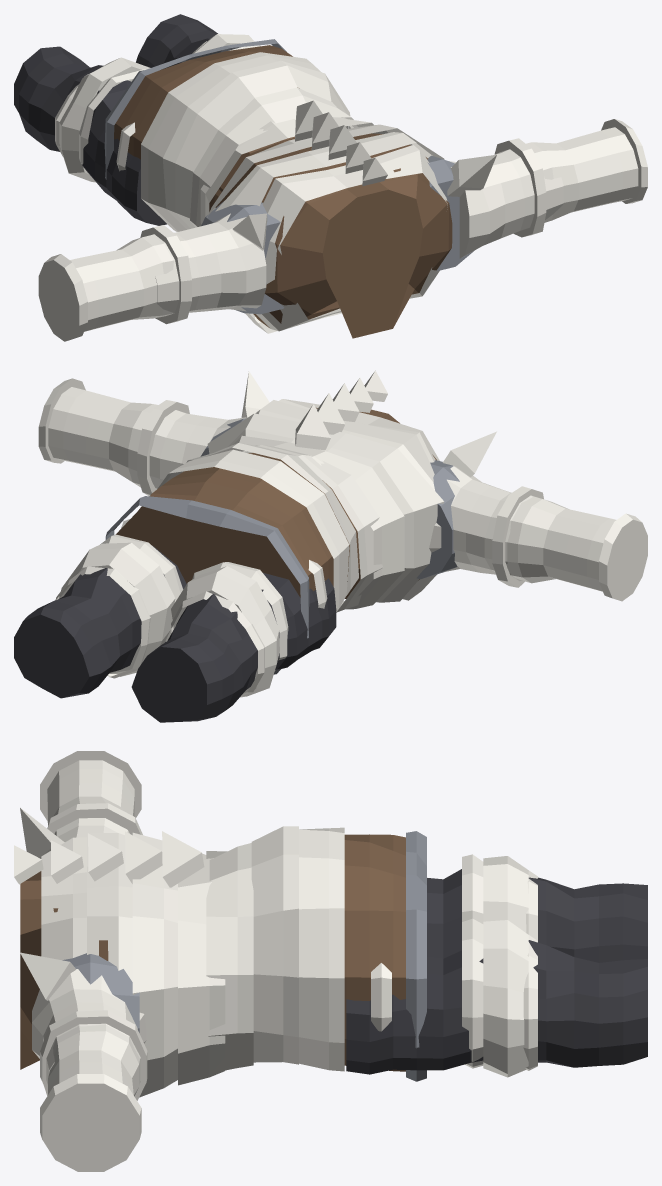
The model's file is armor_carapace.glb.
The picture shows the model from 3 angles, top to bottom: view 1: azimuth 30°, elevation 25°; view 2: azimuth 150°, elevation 25°; view 3: azimuth 270°, elevation 25°; orthographic projection. The views are drawn at different scales.
Parts seen in each view (by area): view 1: Torso, Abdomen, LowerArmR, UpperArmR, LowerArmL, UpperArmL, UpperLegR, LowerLegR, LowerLegL, UpperLegL; view 2: Abdomen, Torso, LowerLegL, LowerArmR, LowerLegR, LowerArmL, UpperLegR, UpperArmR, UpperLegL, UpperArmL; view 3: Abdomen, Torso, UpperLegL, LowerArmL, LowerLegL, LowerLegR, UpperLegR, UpperArmL, LowerArmR, UpperArmR.
Part boxes in pixels (left/top/right/bottom): Torso: left=200, top=100, right=452, bottom=338; Abdomen: left=104, top=39, right=353, bottom=231; LowerArmR: left=38, top=225, right=191, bottom=341; UpperArmR: left=153, top=201, right=284, bottom=314; LowerArmL: left=494, top=119, right=647, bottom=237; UpperArmL: left=427, top=149, right=563, bottom=271; UpperLegR: left=59, top=57, right=166, bottom=225; LowerLegR: left=14, top=46, right=103, bottom=156; LowerLegL: left=136, top=14, right=217, bottom=69; UpperLegL: left=193, top=34, right=260, bottom=53; Abdomen: left=105, top=443, right=383, bottom=674; Torso: left=207, top=370, right=444, bottom=609; LowerLegL: left=14, top=566, right=150, bottom=698; LowerArmR: left=492, top=486, right=647, bottom=601; LowerLegR: left=131, top=591, right=264, bottom=722; LowerArmL: left=38, top=378, right=189, bottom=496; UpperLegR: left=171, top=560, right=336, bottom=697; UpperArmR: left=416, top=431, right=536, bottom=581; UpperLegL: left=59, top=519, right=186, bottom=676; UpperArmL: left=149, top=371, right=269, bottom=488; Abdomen: left=206, top=826, right=426, bottom=1081; Torso: left=14, top=831, right=225, bottom=1097; UpperLegL: left=346, top=918, right=528, bottom=1077; LowerArmL: left=40, top=1010, right=147, bottom=1171; LowerLegL: left=523, top=935, right=647, bottom=1070; LowerLegR: left=526, top=870, right=647, bottom=962; UpperLegR: left=427, top=854, right=528, bottom=958; UpperArmL: left=20, top=952, right=146, bottom=1084; LowerArmR: left=40, top=751, right=142, bottom=835; UpperArmR: left=20, top=808, right=129, bottom=858.
Bounding box in the file's own units: 2.24 × 0.7212 × 1.81.
